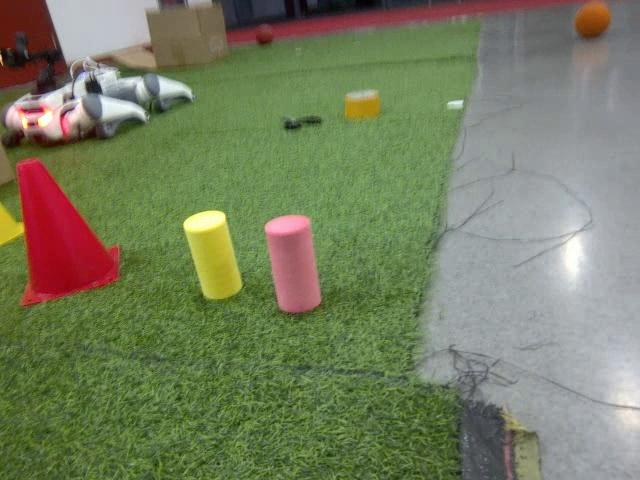red_barrel: (13, 153, 124, 307)
red_cylinder: (263, 214, 323, 314)
yellow_cylinder: (180, 208, 244, 301)
